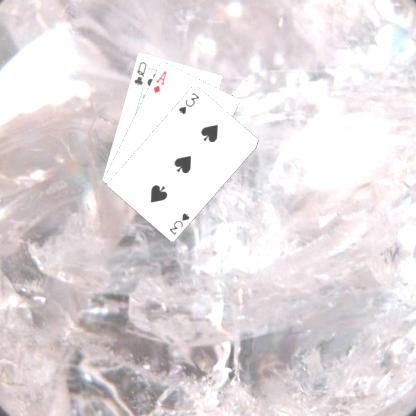3S: (176, 89, 201, 115), (166, 210, 191, 236)
AD: (151, 68, 168, 94)
QC: (131, 59, 148, 87)
